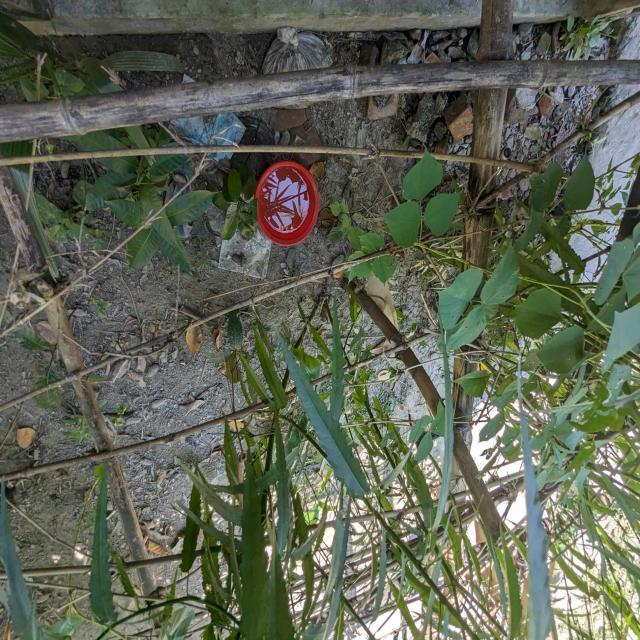Breeding Place: (246, 152, 326, 258), (200, 199, 282, 295)
